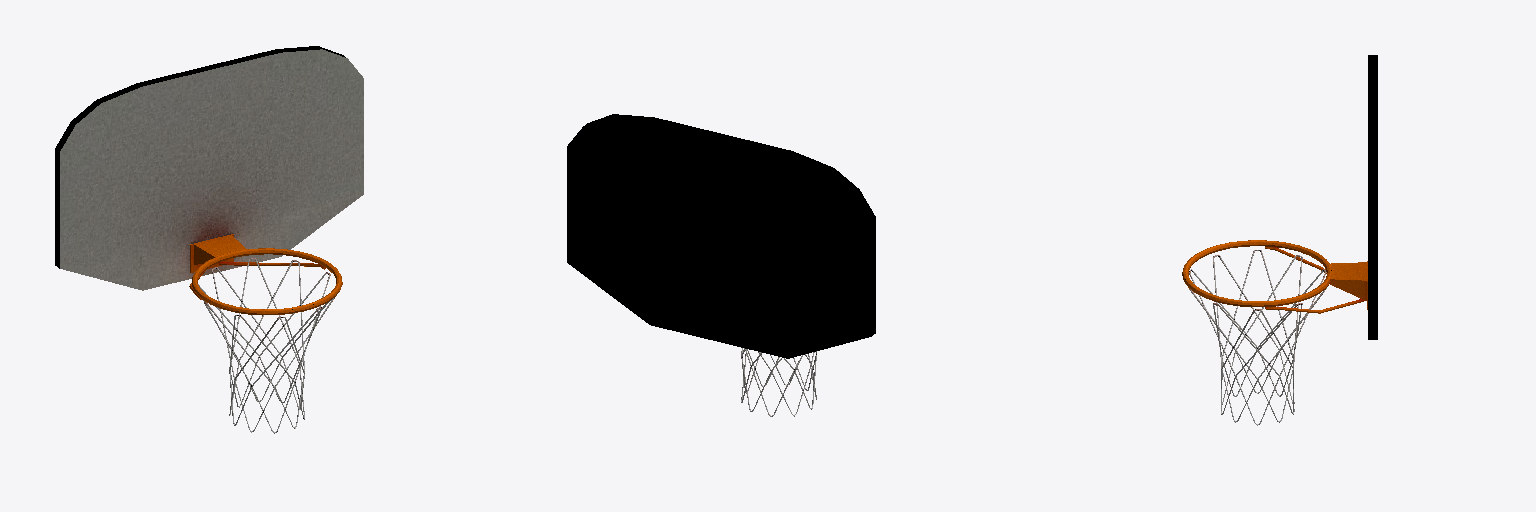
The picture shows the model from 3 angles: view 1: azimuth 30°, elevation 25°; view 2: azimuth 150°, elevation 25°; view 3: azimuth 270°, elevation 25°; orthographic projection.
Visible parts, largest first — view 1: panel_Cube, support_Cube.001, net_Circle.001; view 2: panel_Cube, net_Circle.001; view 3: support_Cube.001, net_Circle.001, panel_Cube.
Part boxes in pixels (x1,y1,x2,y2): panel_Cube: (55,46,363,290); support_Cube.001: (189,234,342,315); net_Circle.001: (198,258,336,433); panel_Cube: (567,114,875,358); net_Circle.001: (741,348,816,416); support_Cube.001: (1182,240,1367,313); net_Circle.001: (1189,250,1326,425); panel_Cube: (1368,55,1377,339).
Bounding box in the file's own units: 1.09 × 1.06 × 0.6086.
4 materials, 3 textured.